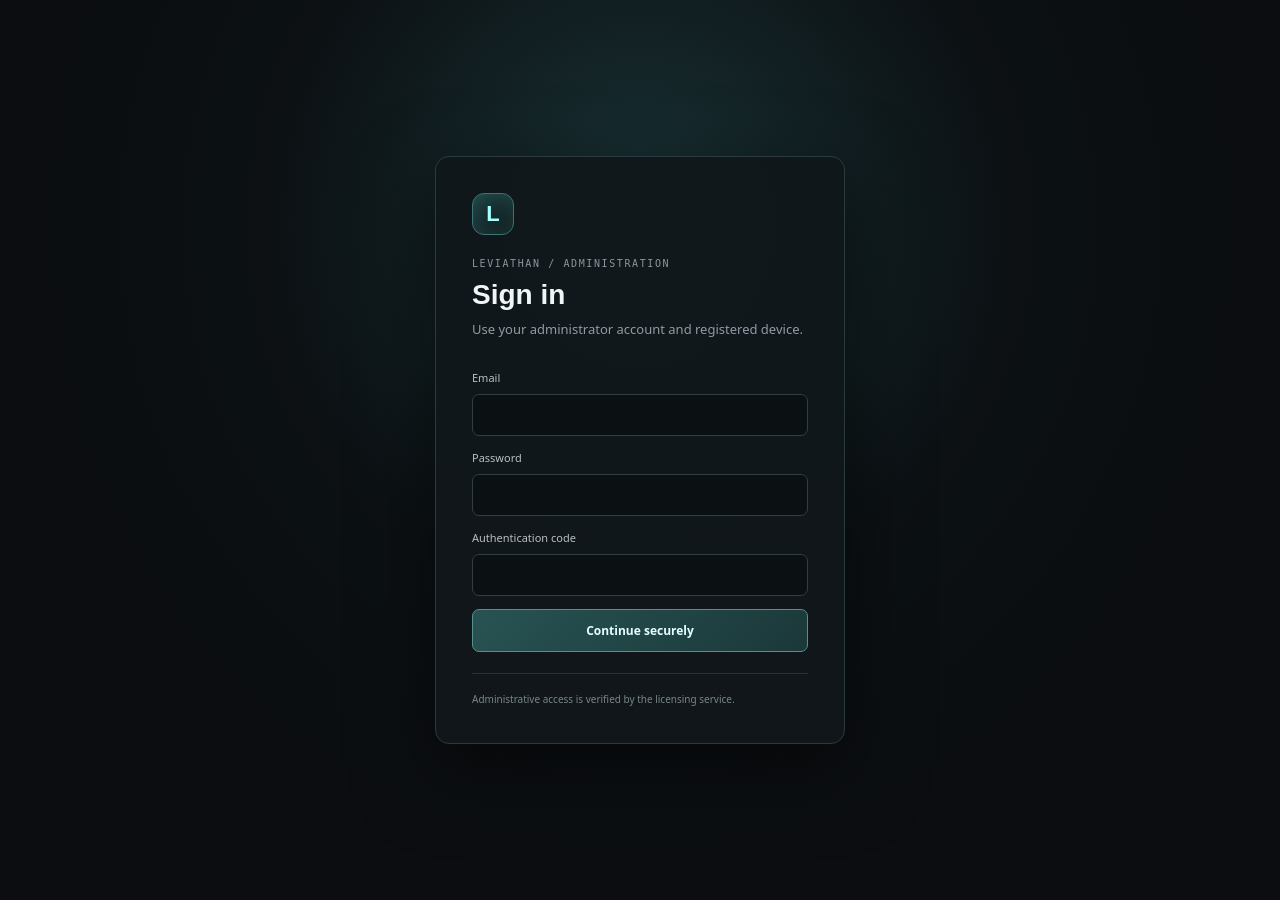
Test: AdminApp › keeps state unknown and blocks writes when the authoritative read is stale
Type "owner@example.test" into the field labelled "Email" at (640, 415), box top-left (472, 394), bottom-right (808, 436)
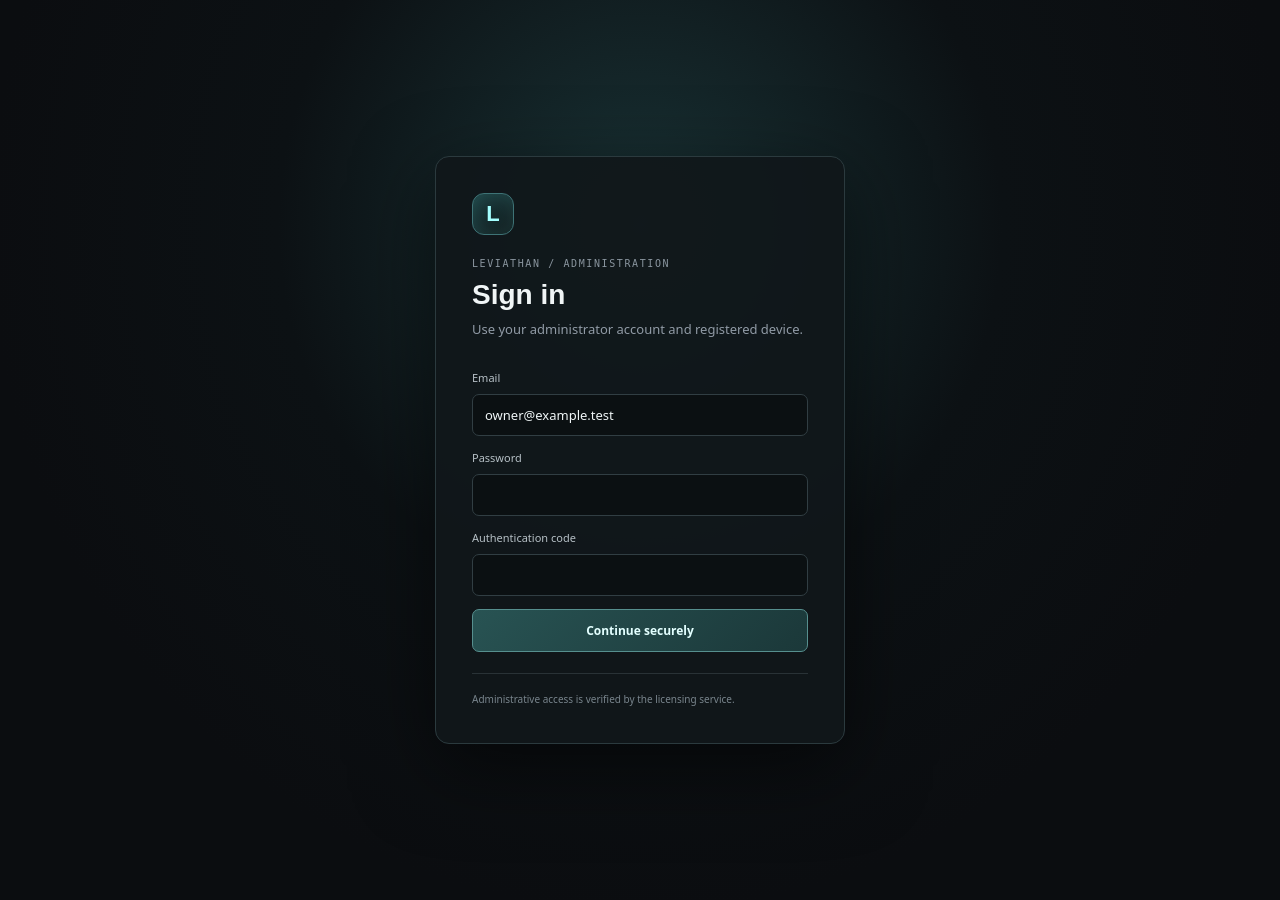
Type "credential-value" into the password field labelled "Password" at (640, 495), box top-left (472, 474), bottom-right (808, 516)
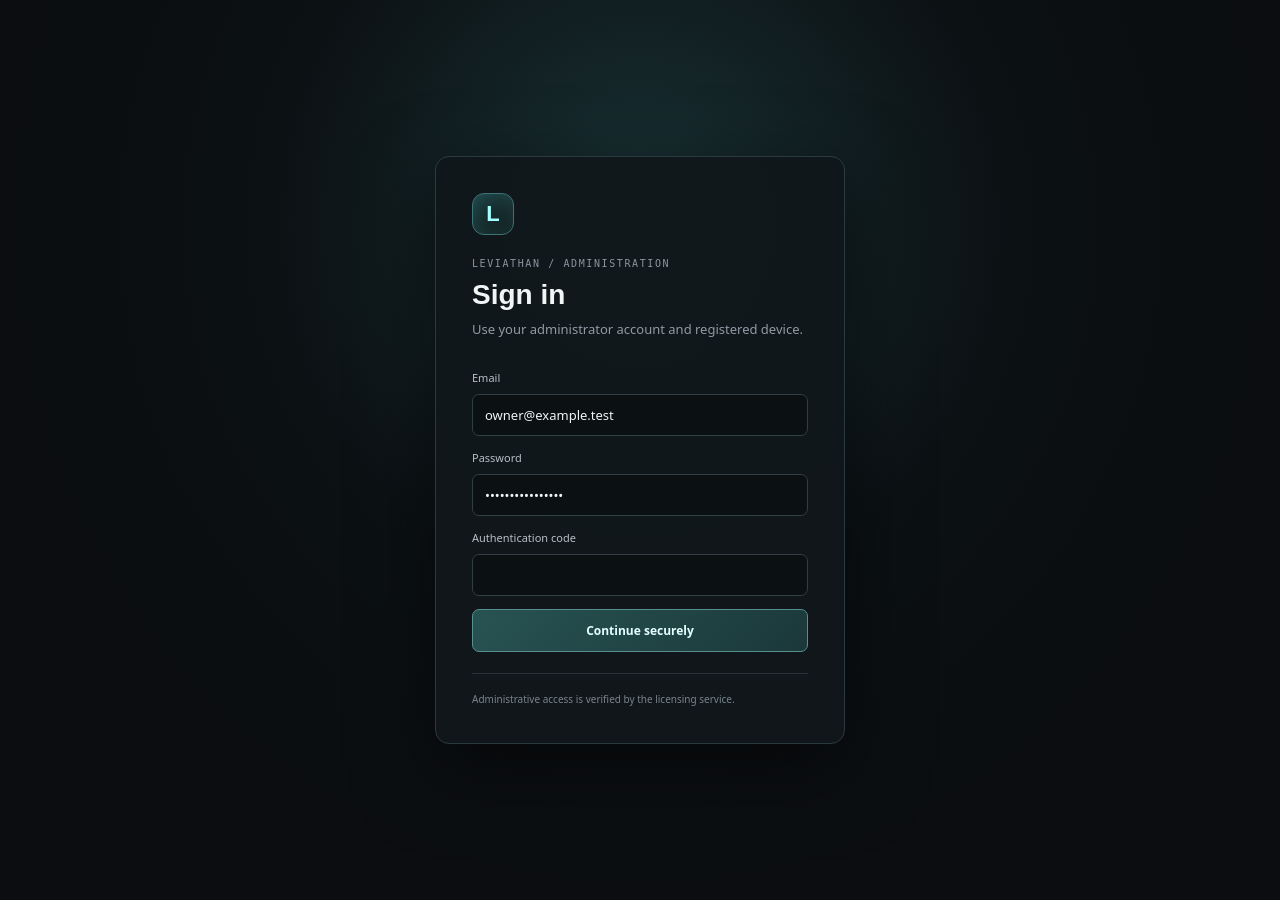
Type "123456" into the field labelled "Authentication code" at (640, 575), box top-left (472, 554), bottom-right (808, 596)
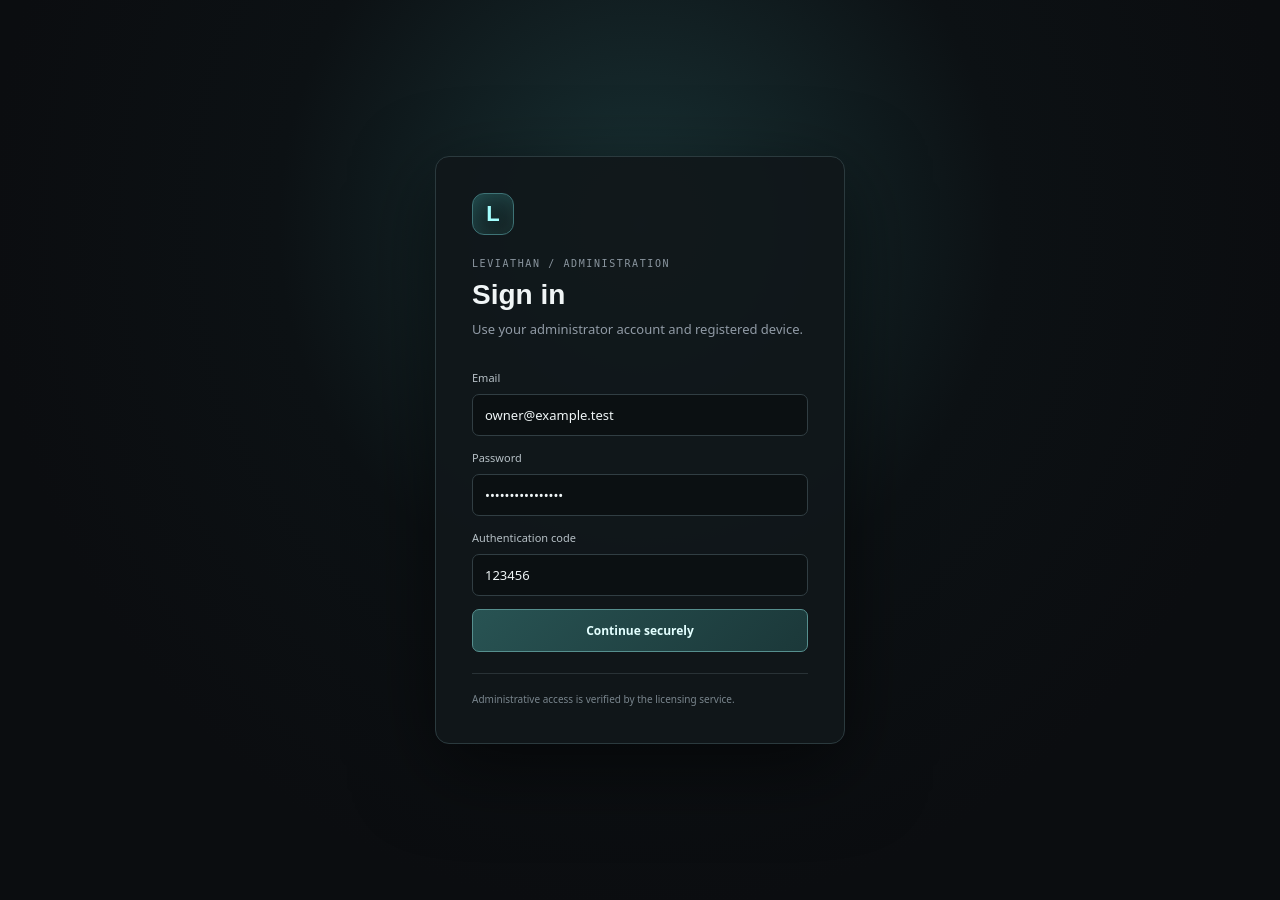
Click the button "Continue securely" at (640, 630), box top-left (472, 609), bottom-right (808, 652)
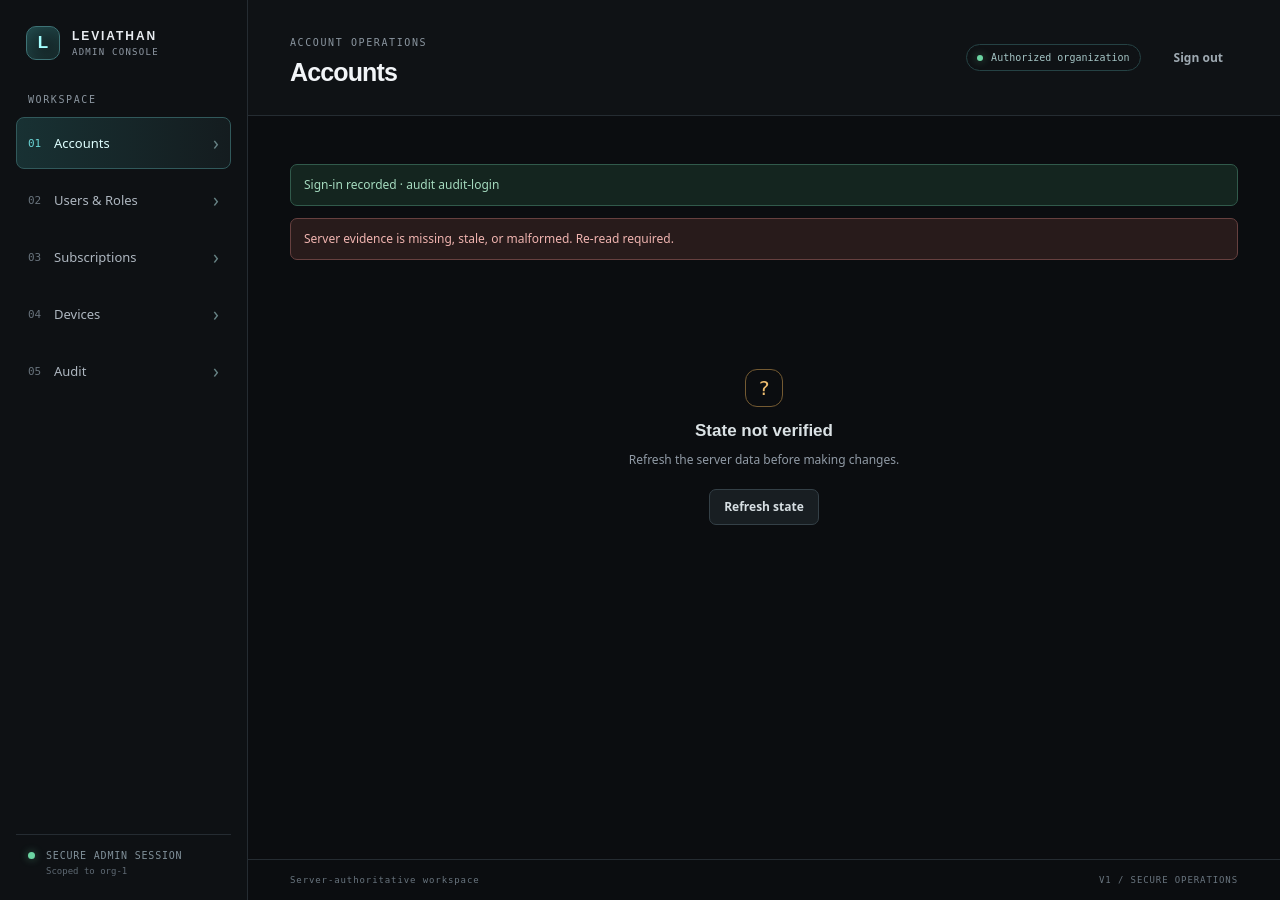
Now the text "Server evidence is missing, stale, or malformed. Re-read required." is shown, box top-left (290, 218), bottom-right (1238, 260)
Now the element with test id "unknown-state" is shown, box top-left (629, 369), bottom-right (899, 525)
